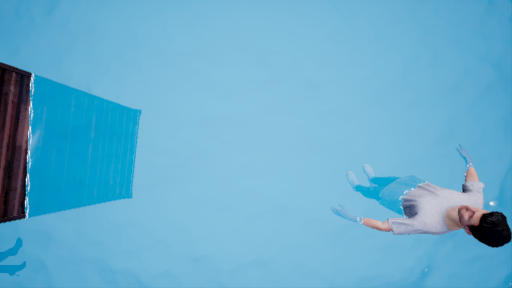person: (329, 150, 512, 253)
